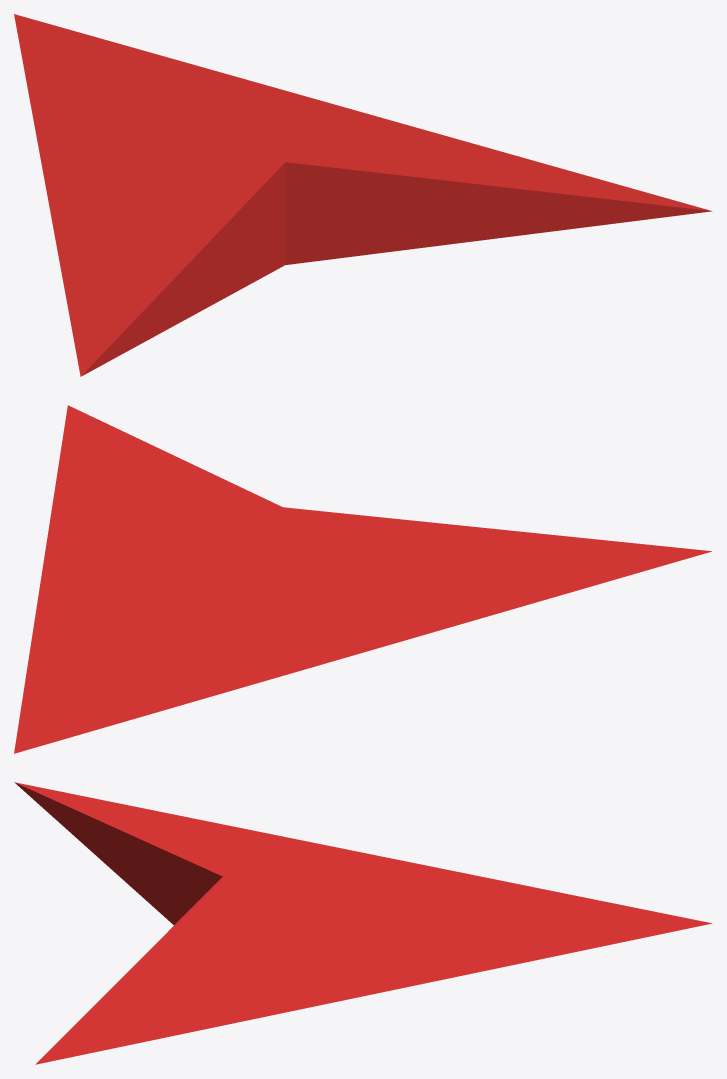
Rendered from flecha_roja.glb.
3 renders of one model, top to bottom at view 1: azimuth 30°, elevation 25°; view 2: azimuth 150°, elevation 25°; view 3: azimuth 270°, elevation 25°, orthographic. The views are drawn at different scales.
Visible parts, largest first — view 1: Cube_0; view 2: Cube_0; view 3: Cube_0.
Boxes of the visible parts, x1,y1,x2,y2 form: Cube_0: (14, 14, 712, 376); Cube_0: (14, 405, 711, 753); Cube_0: (14, 782, 712, 1064).
Size of the model in its own units: 4.51 by 0.6894 by 4.71.
